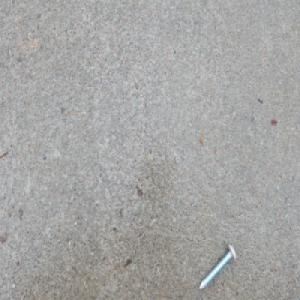Nail: (199, 242, 237, 292)
